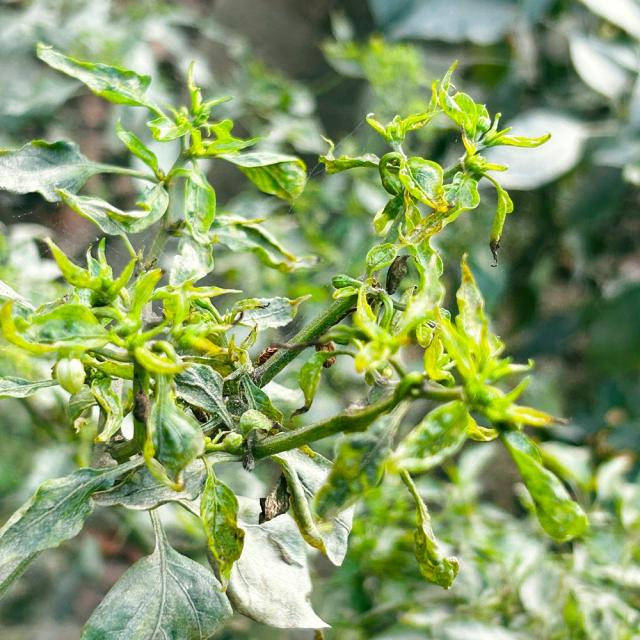Chilli_Leaf_Curl: (1, 39, 588, 636), (317, 59, 551, 265)
